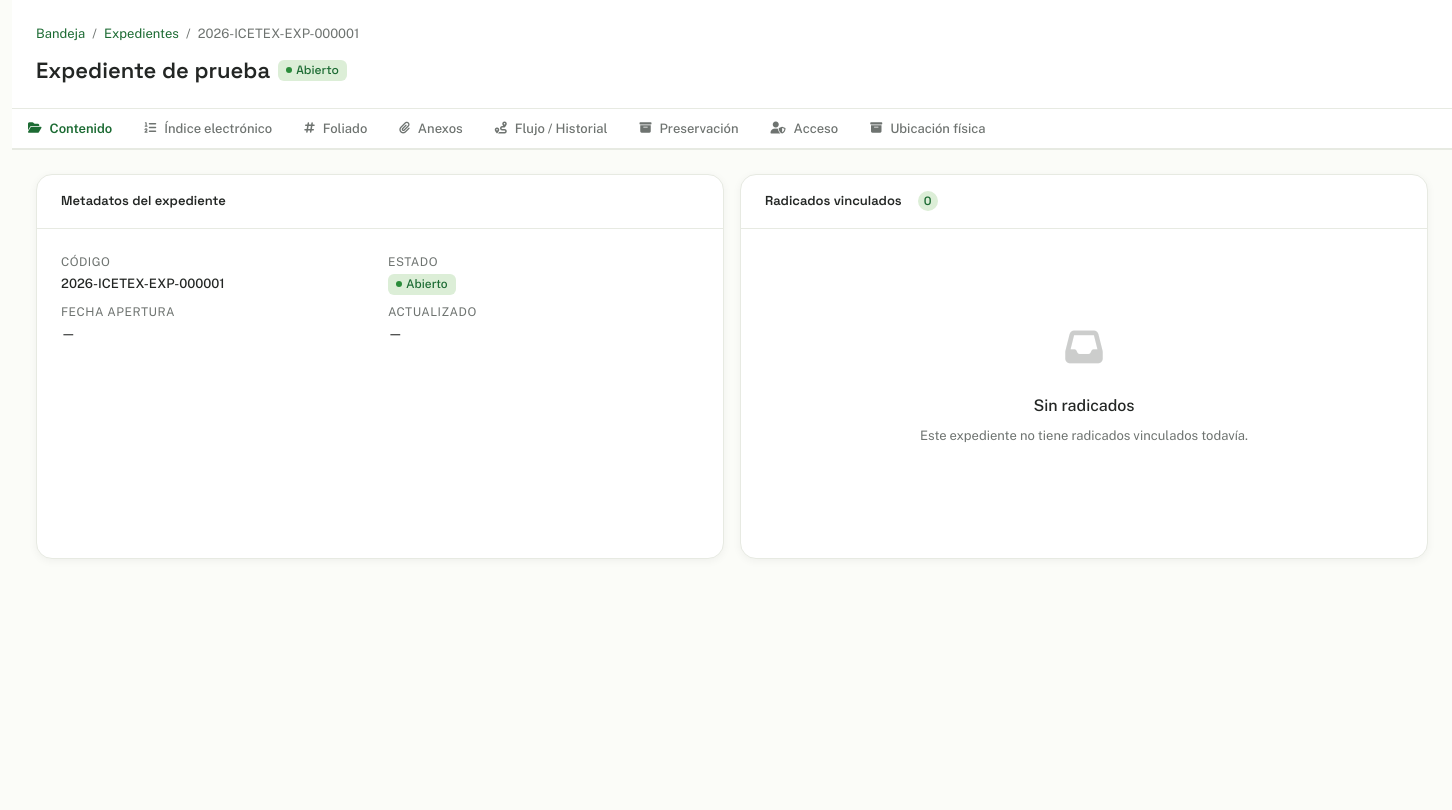
Test: /expedientes/[id] — panel Preservación, AIP 404 NEUTRO (C1) › un 503 real de /api/aip SÍ se presenta como error (no se enmascara)
Click the tab "Preservación" at [689, 130], box left=624, top=109, right=755, bottom=150
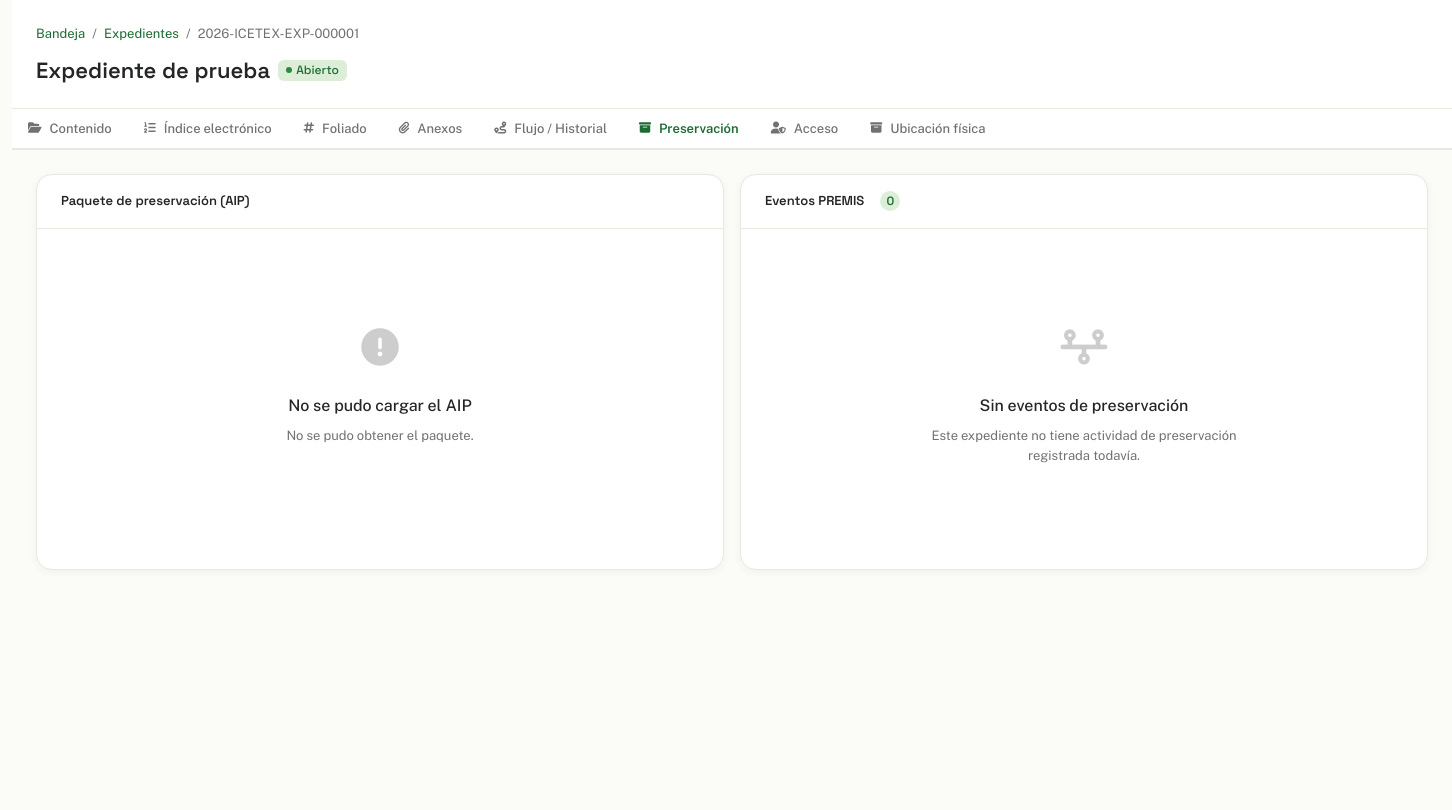
Expected: the text "No se pudo cargar el AIP" is shown, left=288, top=393, right=472, bottom=418
